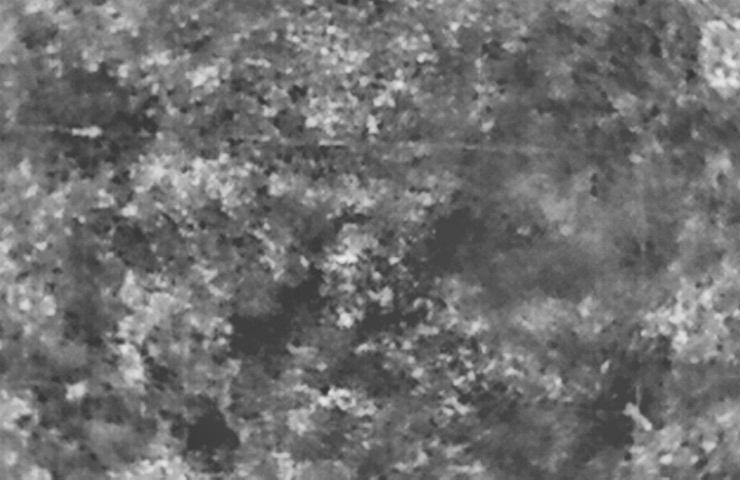landmines: (329, 237, 365, 279)
